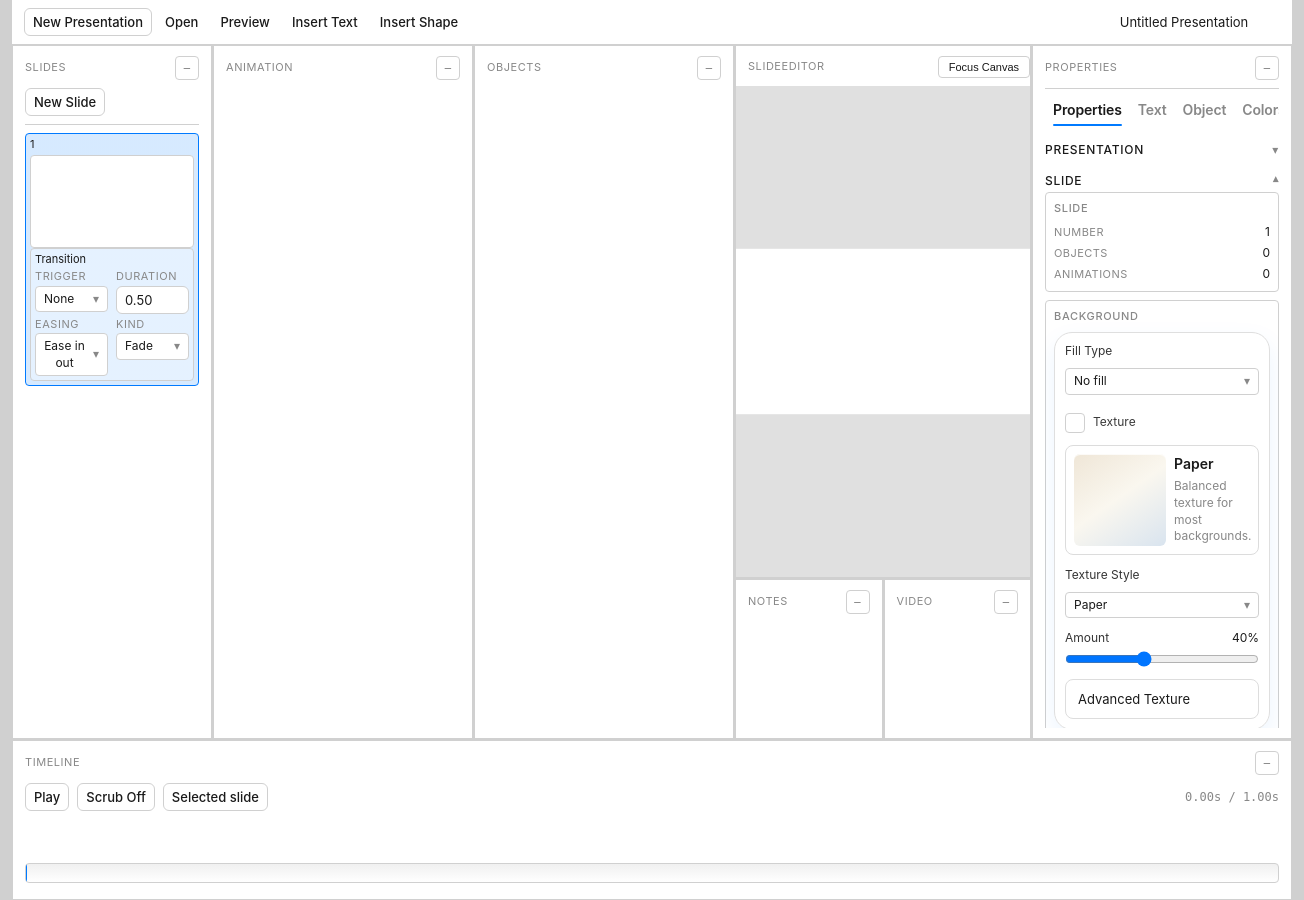
EditorLayout › toggles focus canvas mode and restores panels
The image size is (1304, 900).
Step 1. Click the button "Focus Canvas" → (984, 67), box [938, 56, 1030, 78]
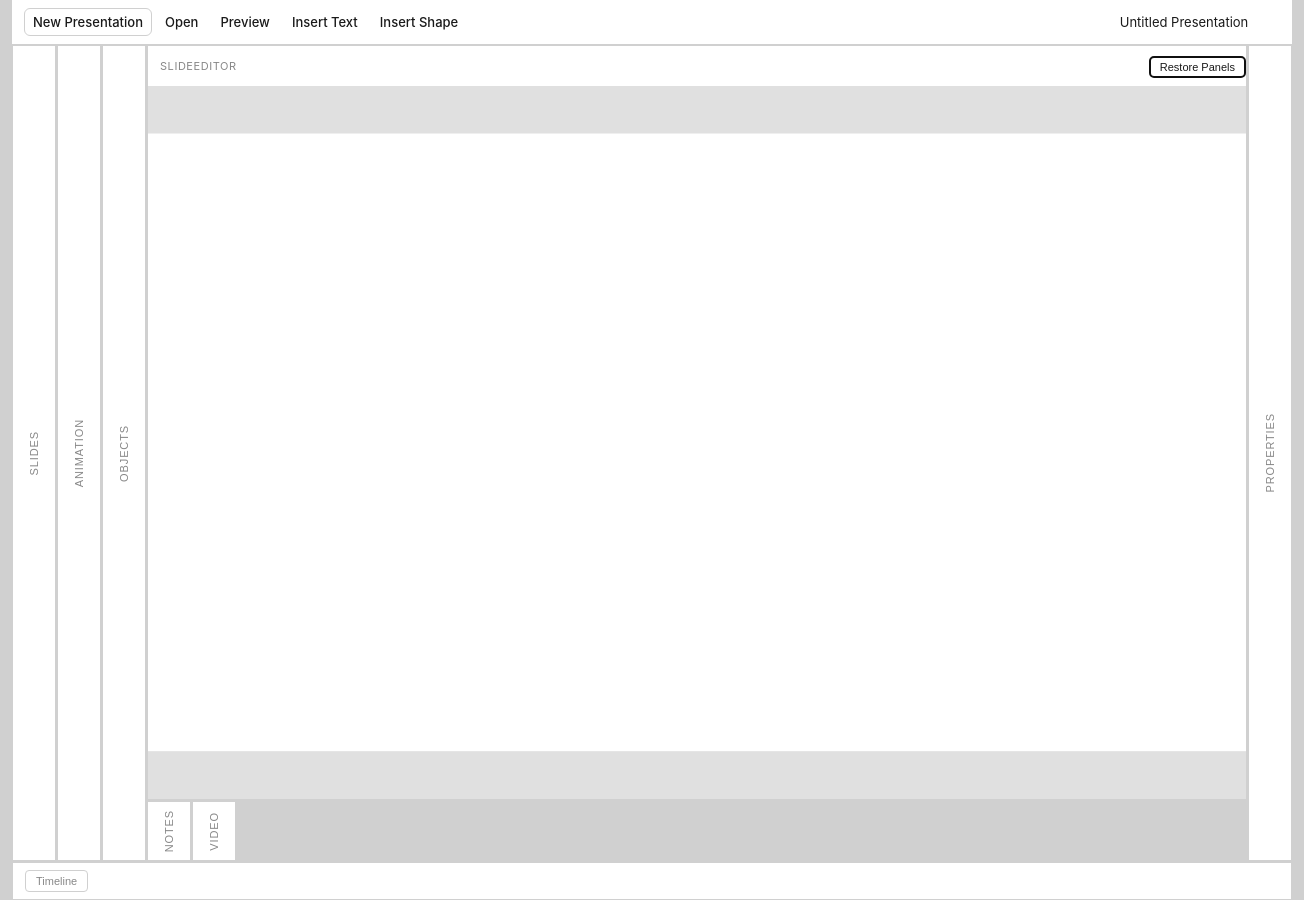
Now the element with test id "slides-panel" is gone
Now the element with test id "animation-panel" is gone
Now the element with test id "objects-panel" is gone
Step 2. Click the button "Restore Panels" → (1197, 67), box [1149, 56, 1246, 78]
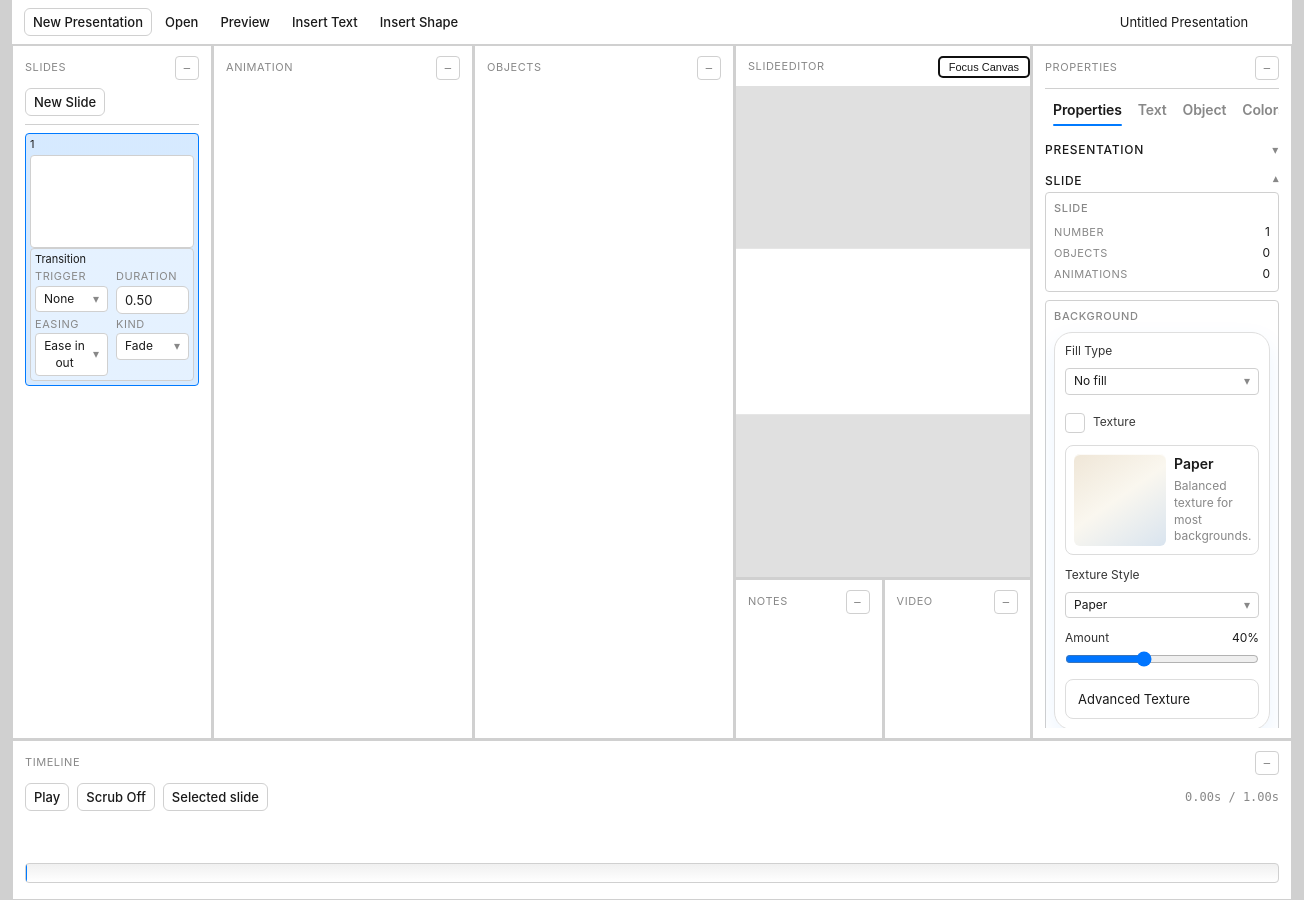
Now the element with test id "slides-panel" is shown, box [25, 56, 199, 386]
Now the element with test id "properties-panel" is shown, box [1033, 46, 1291, 738]
Now the element with test id "timeline-panel" is shown, box [13, 741, 1291, 899]
